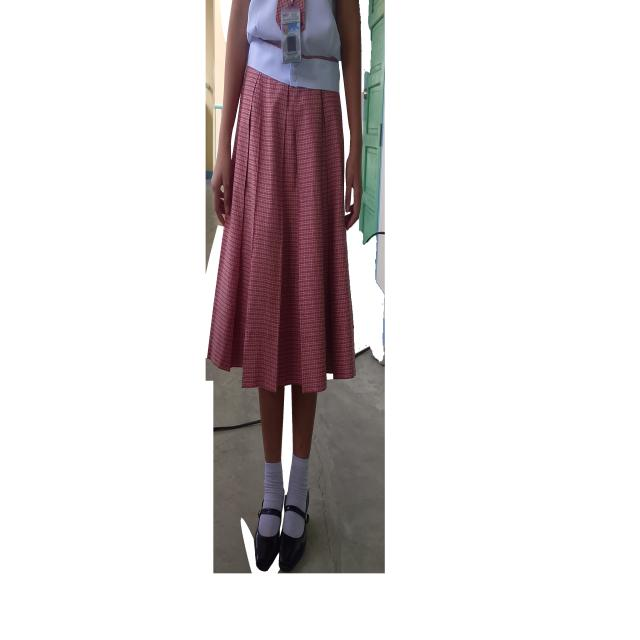shoes: (254, 496, 309, 571), (259, 506, 282, 520)
skirt: (207, 67, 355, 393)
